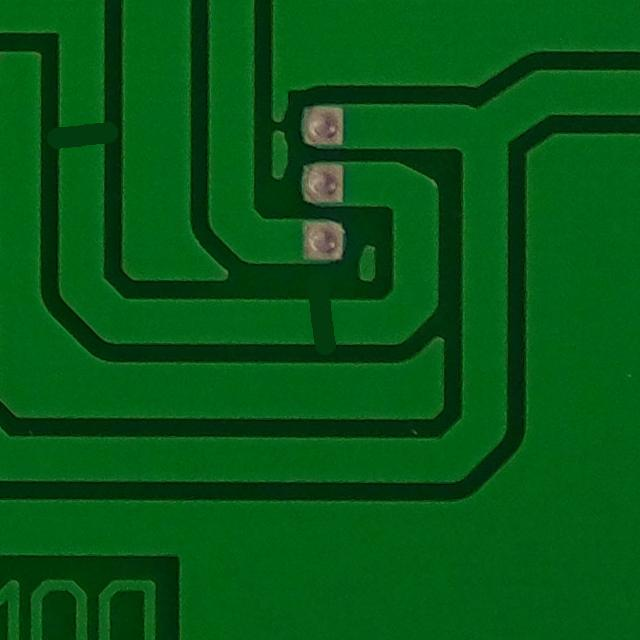open_circuit: (286, 283, 354, 358)
